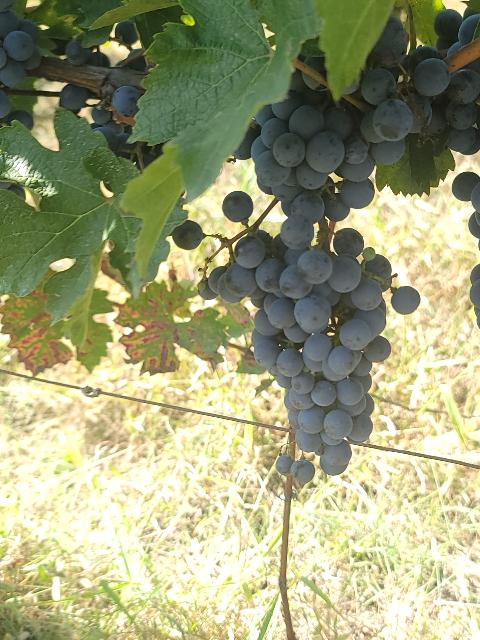grapes: (245, 16, 479, 225), (209, 231, 391, 475)
